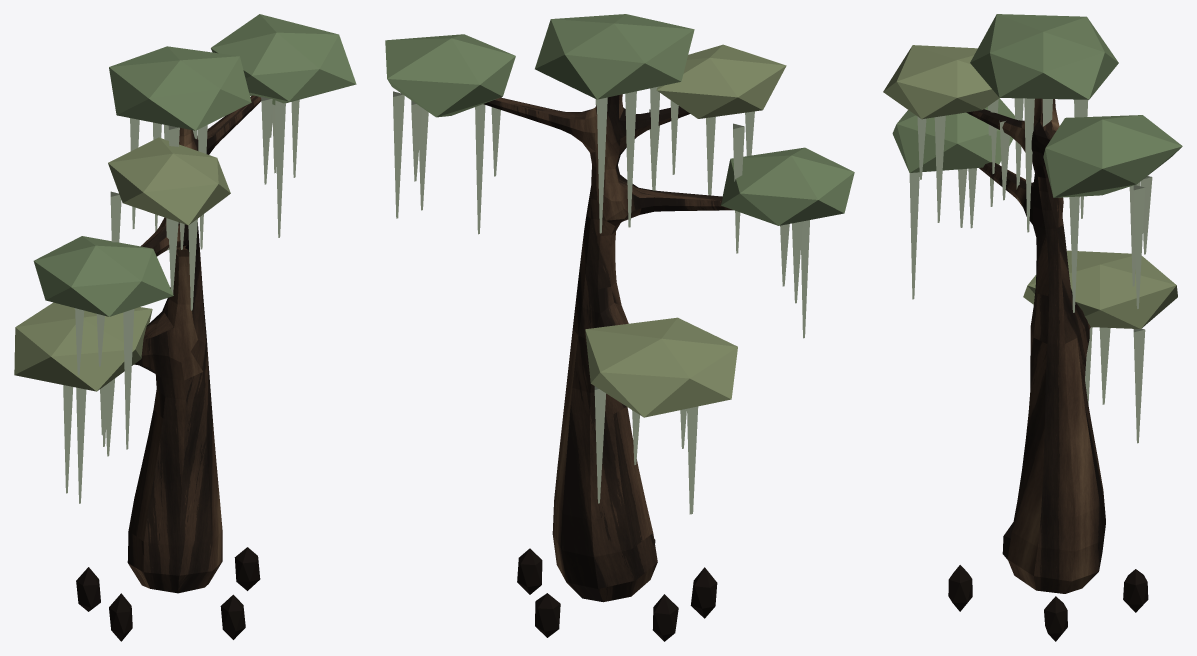
Rendered from swamp_cypress.glb.
3 renders of one model, left to right at view 1: azimuth 30°, elevation 25°; view 2: azimuth 150°, elevation 25°; view 3: azimuth 270°, elevation 25°, orthographic. The views are drawn at different scales.
Visible parts, largest first — view 1: swamp_cypress_7; view 2: swamp_cypress_7; view 3: swamp_cypress_7.
Boxes of the visible parts, <box> form: swamp_cypress_7: <box>14,14,356,641</box>; swamp_cypress_7: <box>385,14,854,641</box>; swamp_cypress_7: <box>883,14,1182,641</box>.
Bounding box in the file's own units: 6.74 × 9.82 × 4.65.
Materials: 4 (1 with a texture image).
